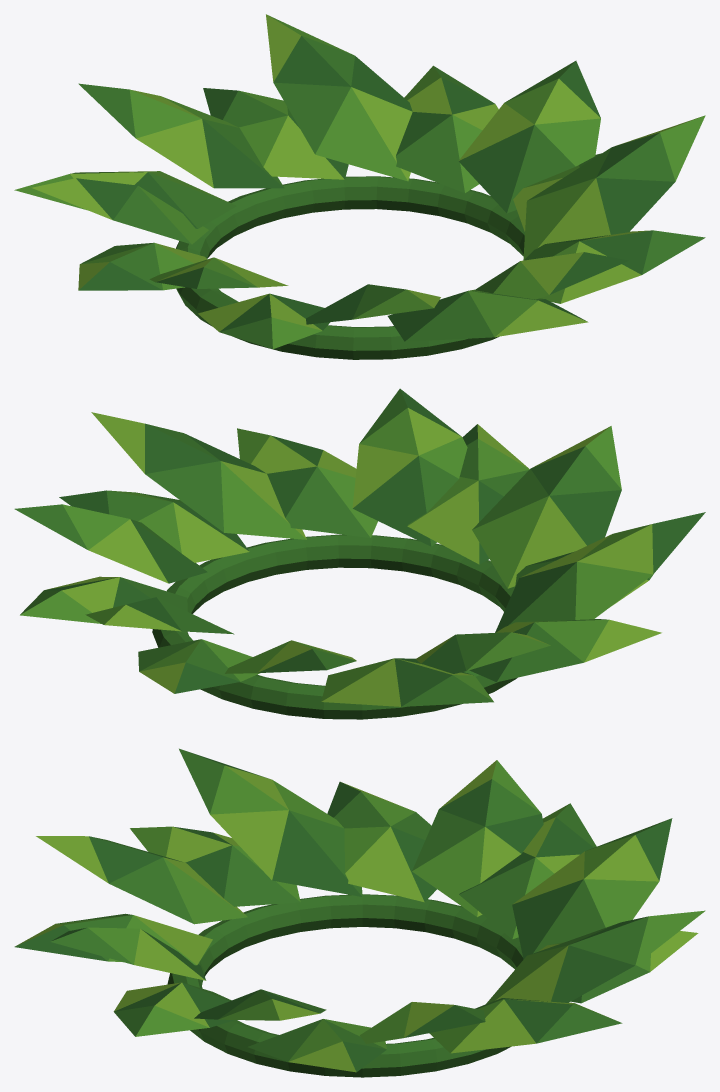
Rendered from ti_leaf_head_lei.glb.
3 views of the same model, one above another, from view 1: azimuth 30°, elevation 25°; view 2: azimuth 150°, elevation 25°; view 3: azimuth 270°, elevation 25° (orthographic).
Visible parts, largest first — view 1: ti_leaf_head_lei; view 2: ti_leaf_head_lei; view 3: ti_leaf_head_lei.
Boxes of the visible parts, x1,y1,x2,y2 form: ti_leaf_head_lei: (14, 14, 705, 359); ti_leaf_head_lei: (14, 388, 705, 719); ti_leaf_head_lei: (14, 748, 705, 1077).
Bounding box in the file's own units: 1.7 × 0.3431 × 1.71.
